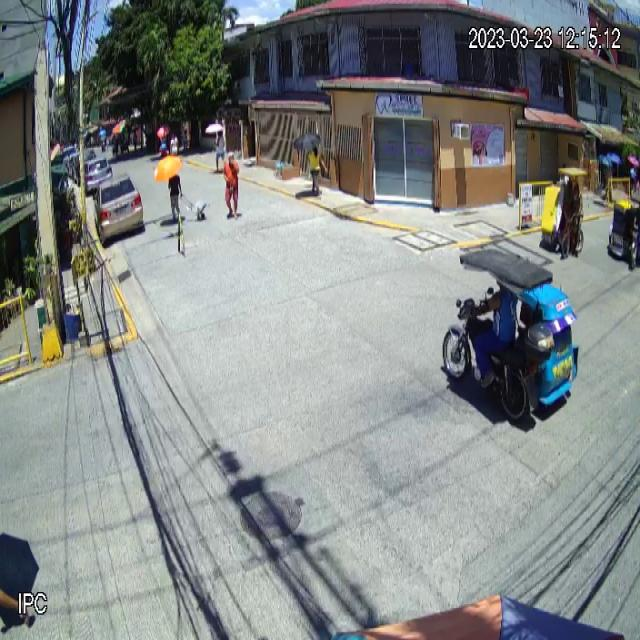Tricycle: (442, 248, 579, 432)
